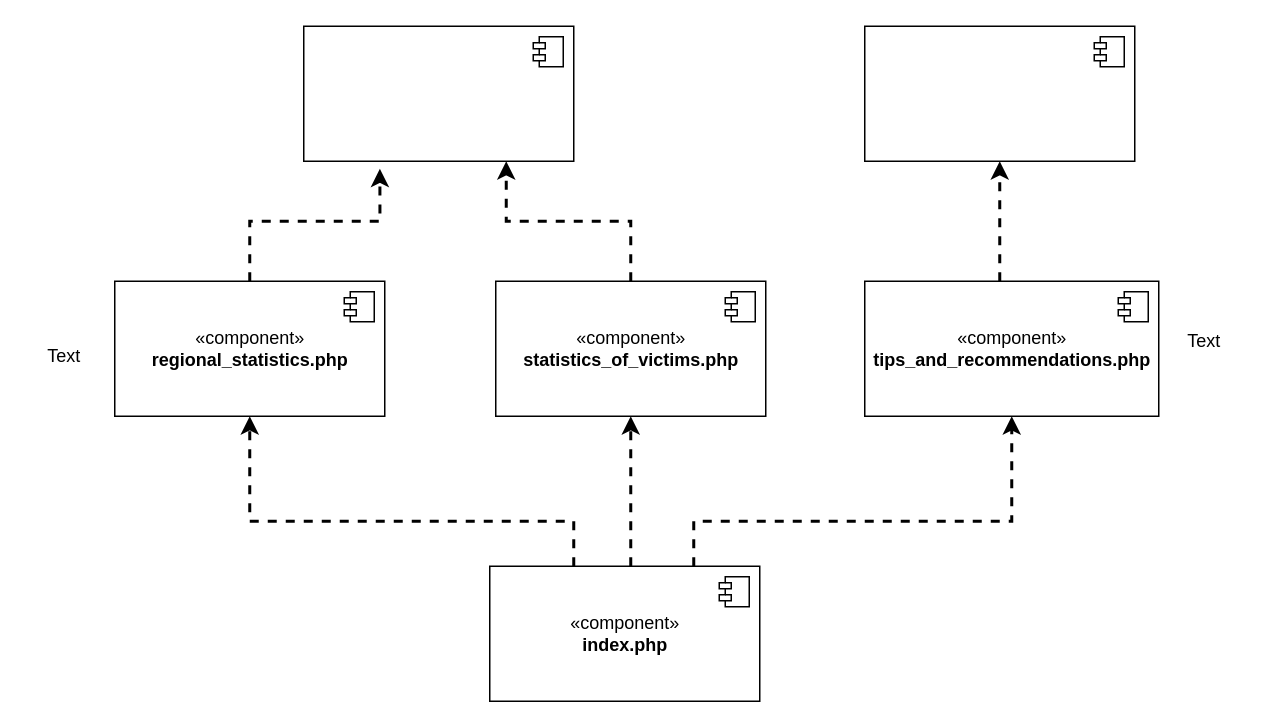
This 1266x728 diagram has some shape labels left out. Here are the shapes that lost their labels. From the top down, the centre of each, then its label:
At point 438,93: "«component» db_connect.php".
At point 999,93: "«component» tips.php".
